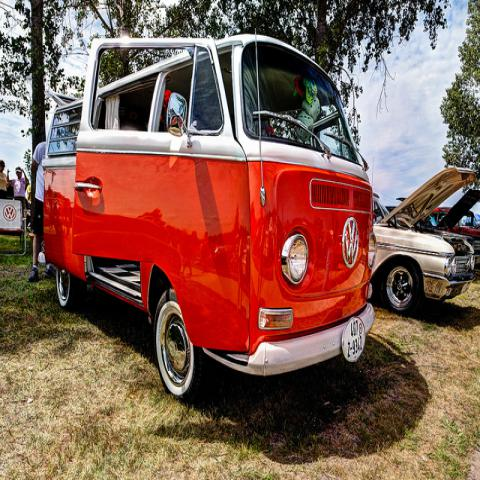bus: (43, 33, 377, 406)
car: (370, 166, 478, 312), (424, 206, 479, 271), (473, 213, 479, 230)
truck: (37, 34, 378, 404), (371, 168, 477, 312)
